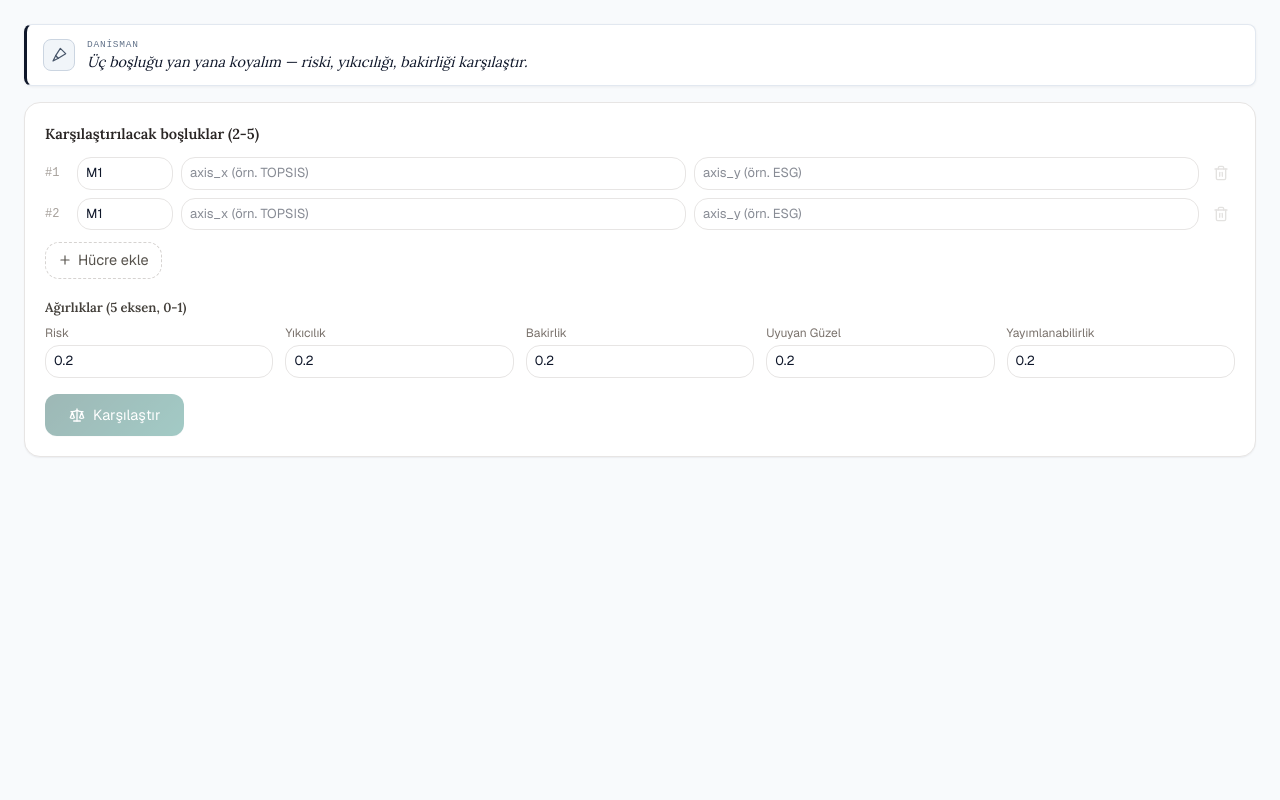
GapComparisonPage › Hucre ekle → 3. hucre + 5. sonra disabled
The image size is (1280, 800).
Click the button "Hücre ekle".
click(103, 260)  # box [45, 242, 162, 279]
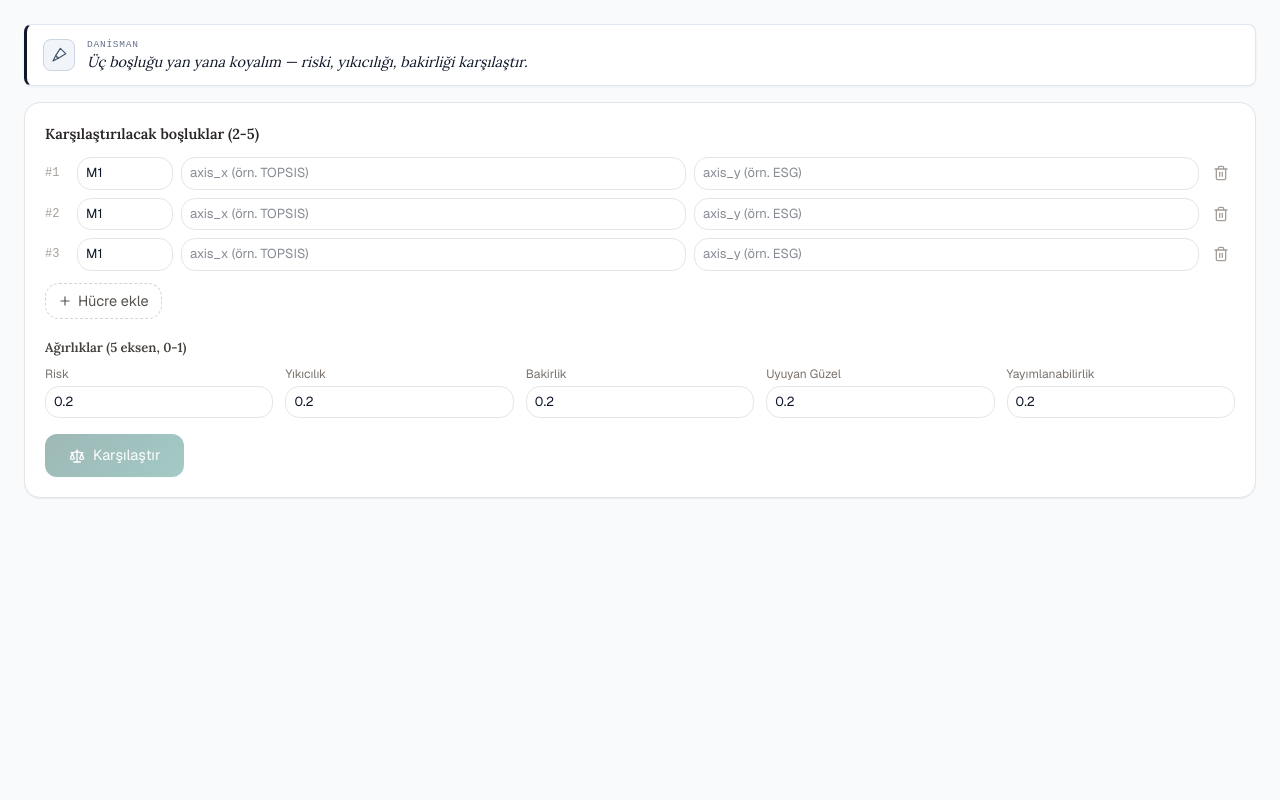
Click the button "Hücre ekle".
click(103, 301)  # box [45, 283, 162, 319]
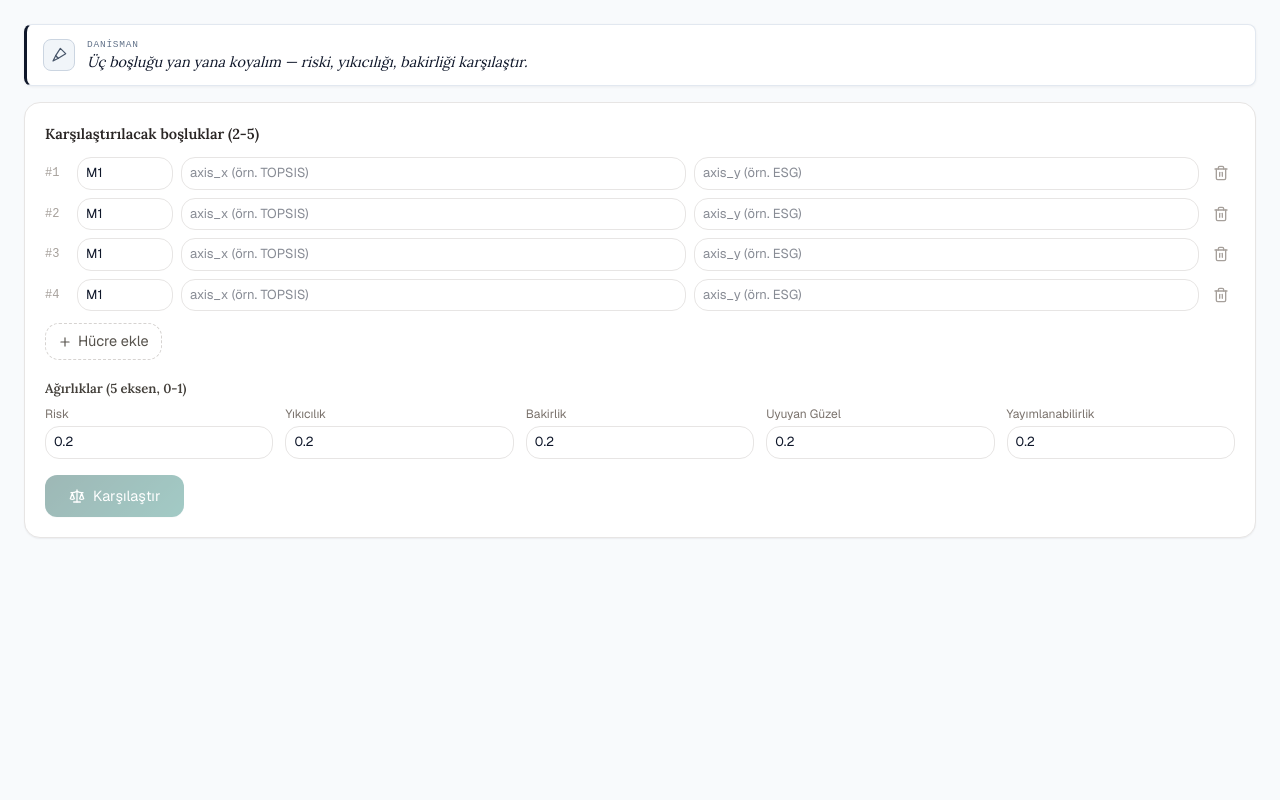
Click the button "Hücre ekle".
click(103, 342)  # box [45, 323, 162, 360]
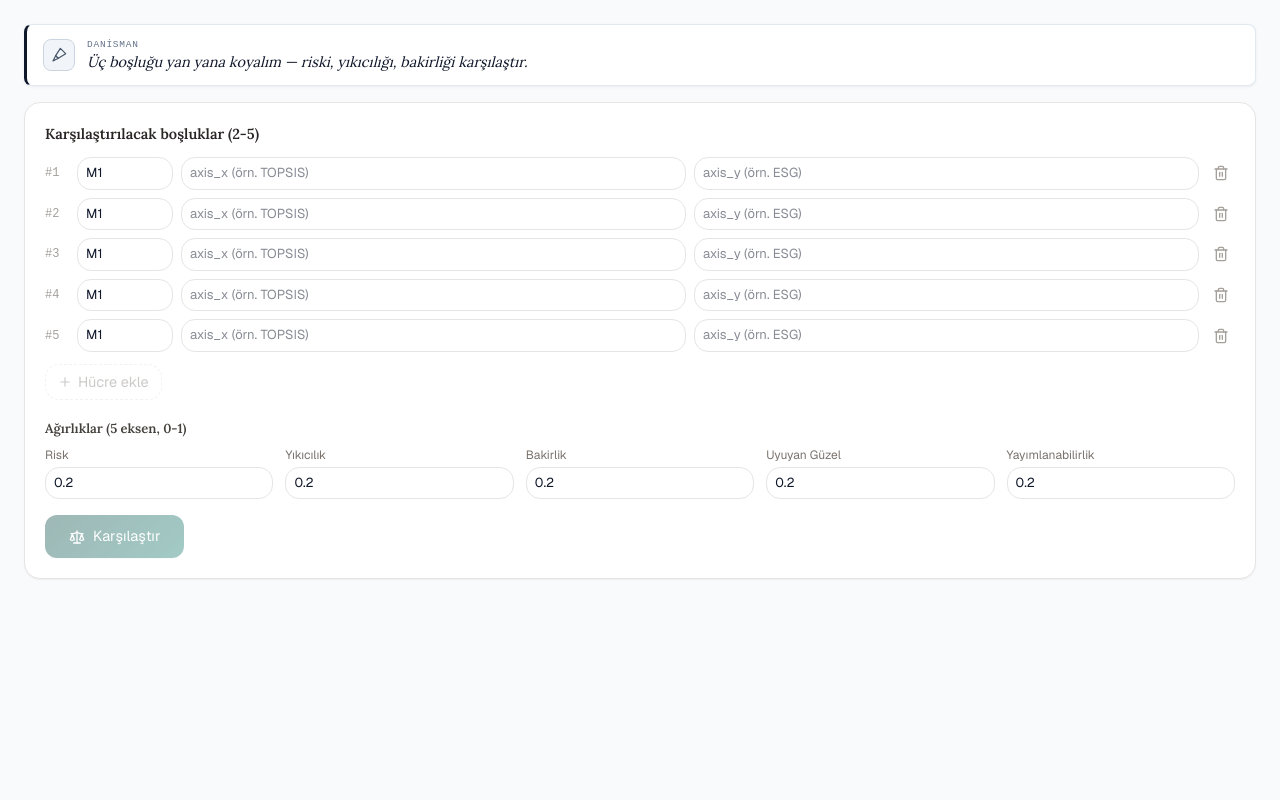
Expected: the button "Hücre ekle" is disabled, [45, 364, 162, 400]
